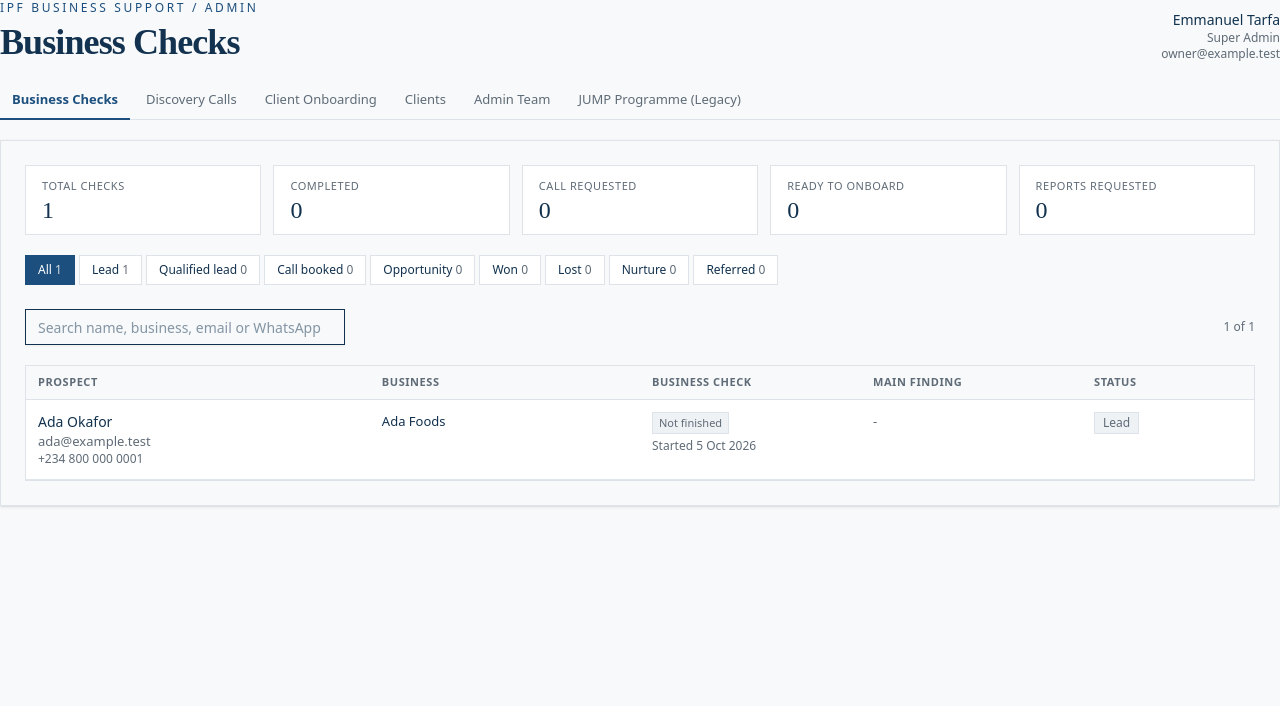
Scenario: Business Check record drawer › copes with a check that was never finished
This screenshot has width=1280, height=706.
What coordinates should you click on to do the following:
click the text "Ada Okafor"
I would click on:
 (640, 439)
Its box is [26,399,1254,480].
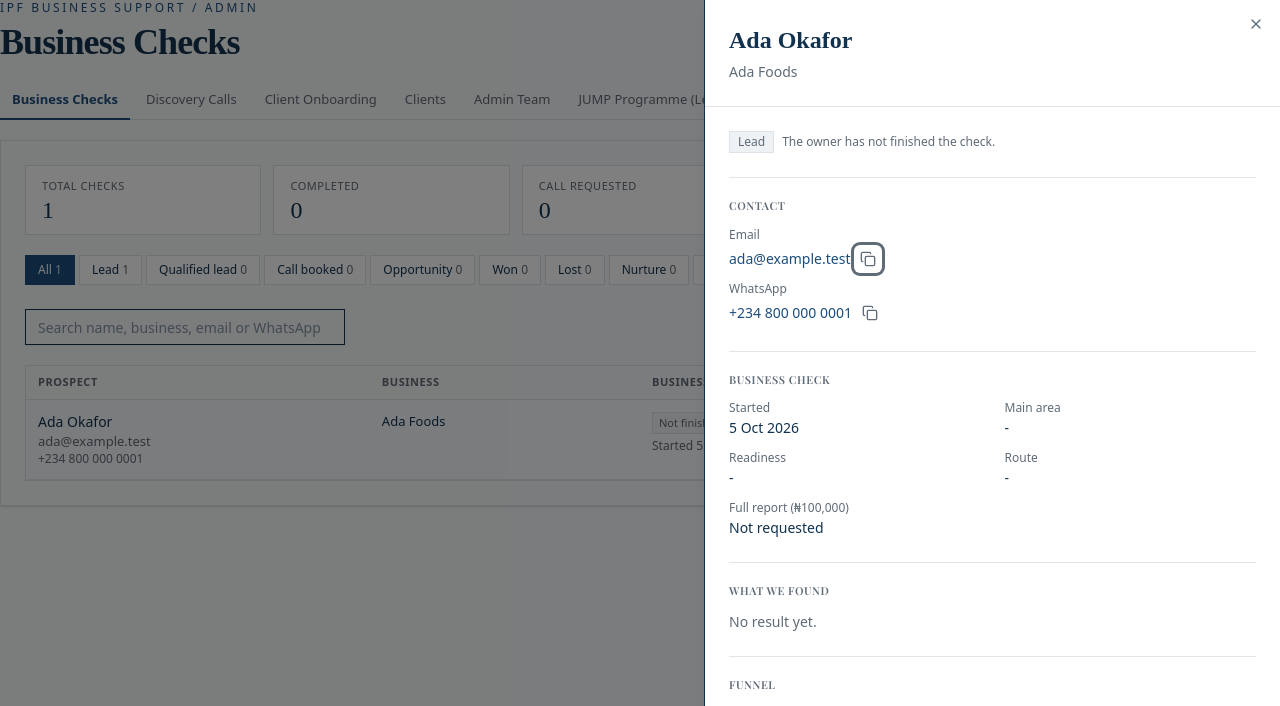
Now the text "The owner has not finished the check." is shown, box [782,134,995,150]
Now the text "No result yet." is shown, box [729,612,817,630]
